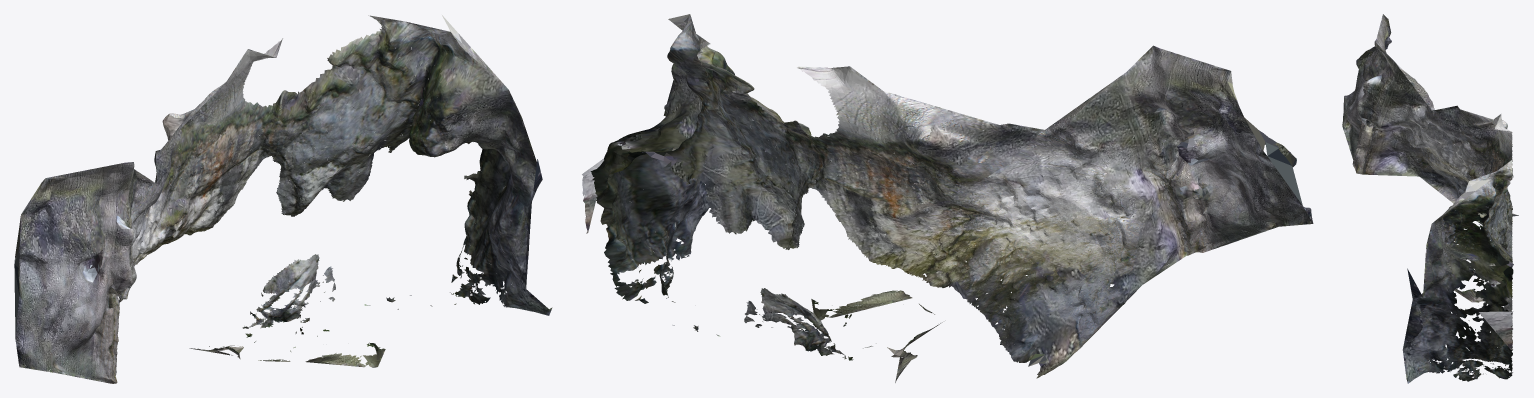
Rendered from cave-mouth-scan.glb.
3 renders of one model, left to right at view 1: azimuth 30°, elevation 25°; view 2: azimuth 150°, elevation 25°; view 3: azimuth 270°, elevation 25°, orthographic. The views are drawn at different scales.
Parts seen in each view (by area): view 1: Stereo textured mesh_Material0_1, Stereo textured mesh_Material0_0, Stereo textured mesh_Material0_0_2; view 2: Stereo textured mesh_Material0_0, Stereo textured mesh_Material0_1, Stereo textured mesh_Material0_0_2; view 3: Stereo textured mesh_Material0_1, Stereo textured mesh_Material0_0, Stereo textured mesh_Material0_0_2.
Boxes of the visible parts, bbox=[...] form: Stereo textured mesh_Material0_1: bbox=[15, 16, 551, 383]; Stereo textured mesh_Material0_0: bbox=[17, 15, 511, 383]; Stereo textured mesh_Material0_0_2: bbox=[14, 15, 552, 383]; Stereo textured mesh_Material0_0: bbox=[587, 14, 1312, 377]; Stereo textured mesh_Material0_1: bbox=[582, 17, 1311, 382]; Stereo textured mesh_Material0_0_2: bbox=[586, 14, 1313, 382]; Stereo textured mesh_Material0_1: bbox=[1342, 15, 1513, 383]; Stereo textured mesh_Material0_0: bbox=[1343, 46, 1513, 381]; Stereo textured mesh_Material0_0_2: bbox=[1342, 14, 1518, 380].
Bounding box in the file's own units: 76.59 × 37.86 × 28.51.
Materials: 1 (1 with a texture image).
